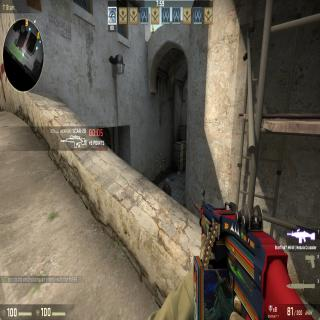T-Head: (164, 177, 170, 190)
